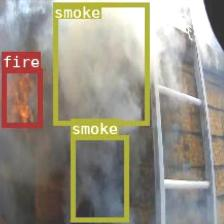fire: (1, 68, 41, 127)
smoke: (53, 2, 148, 124), (70, 135, 128, 221)
